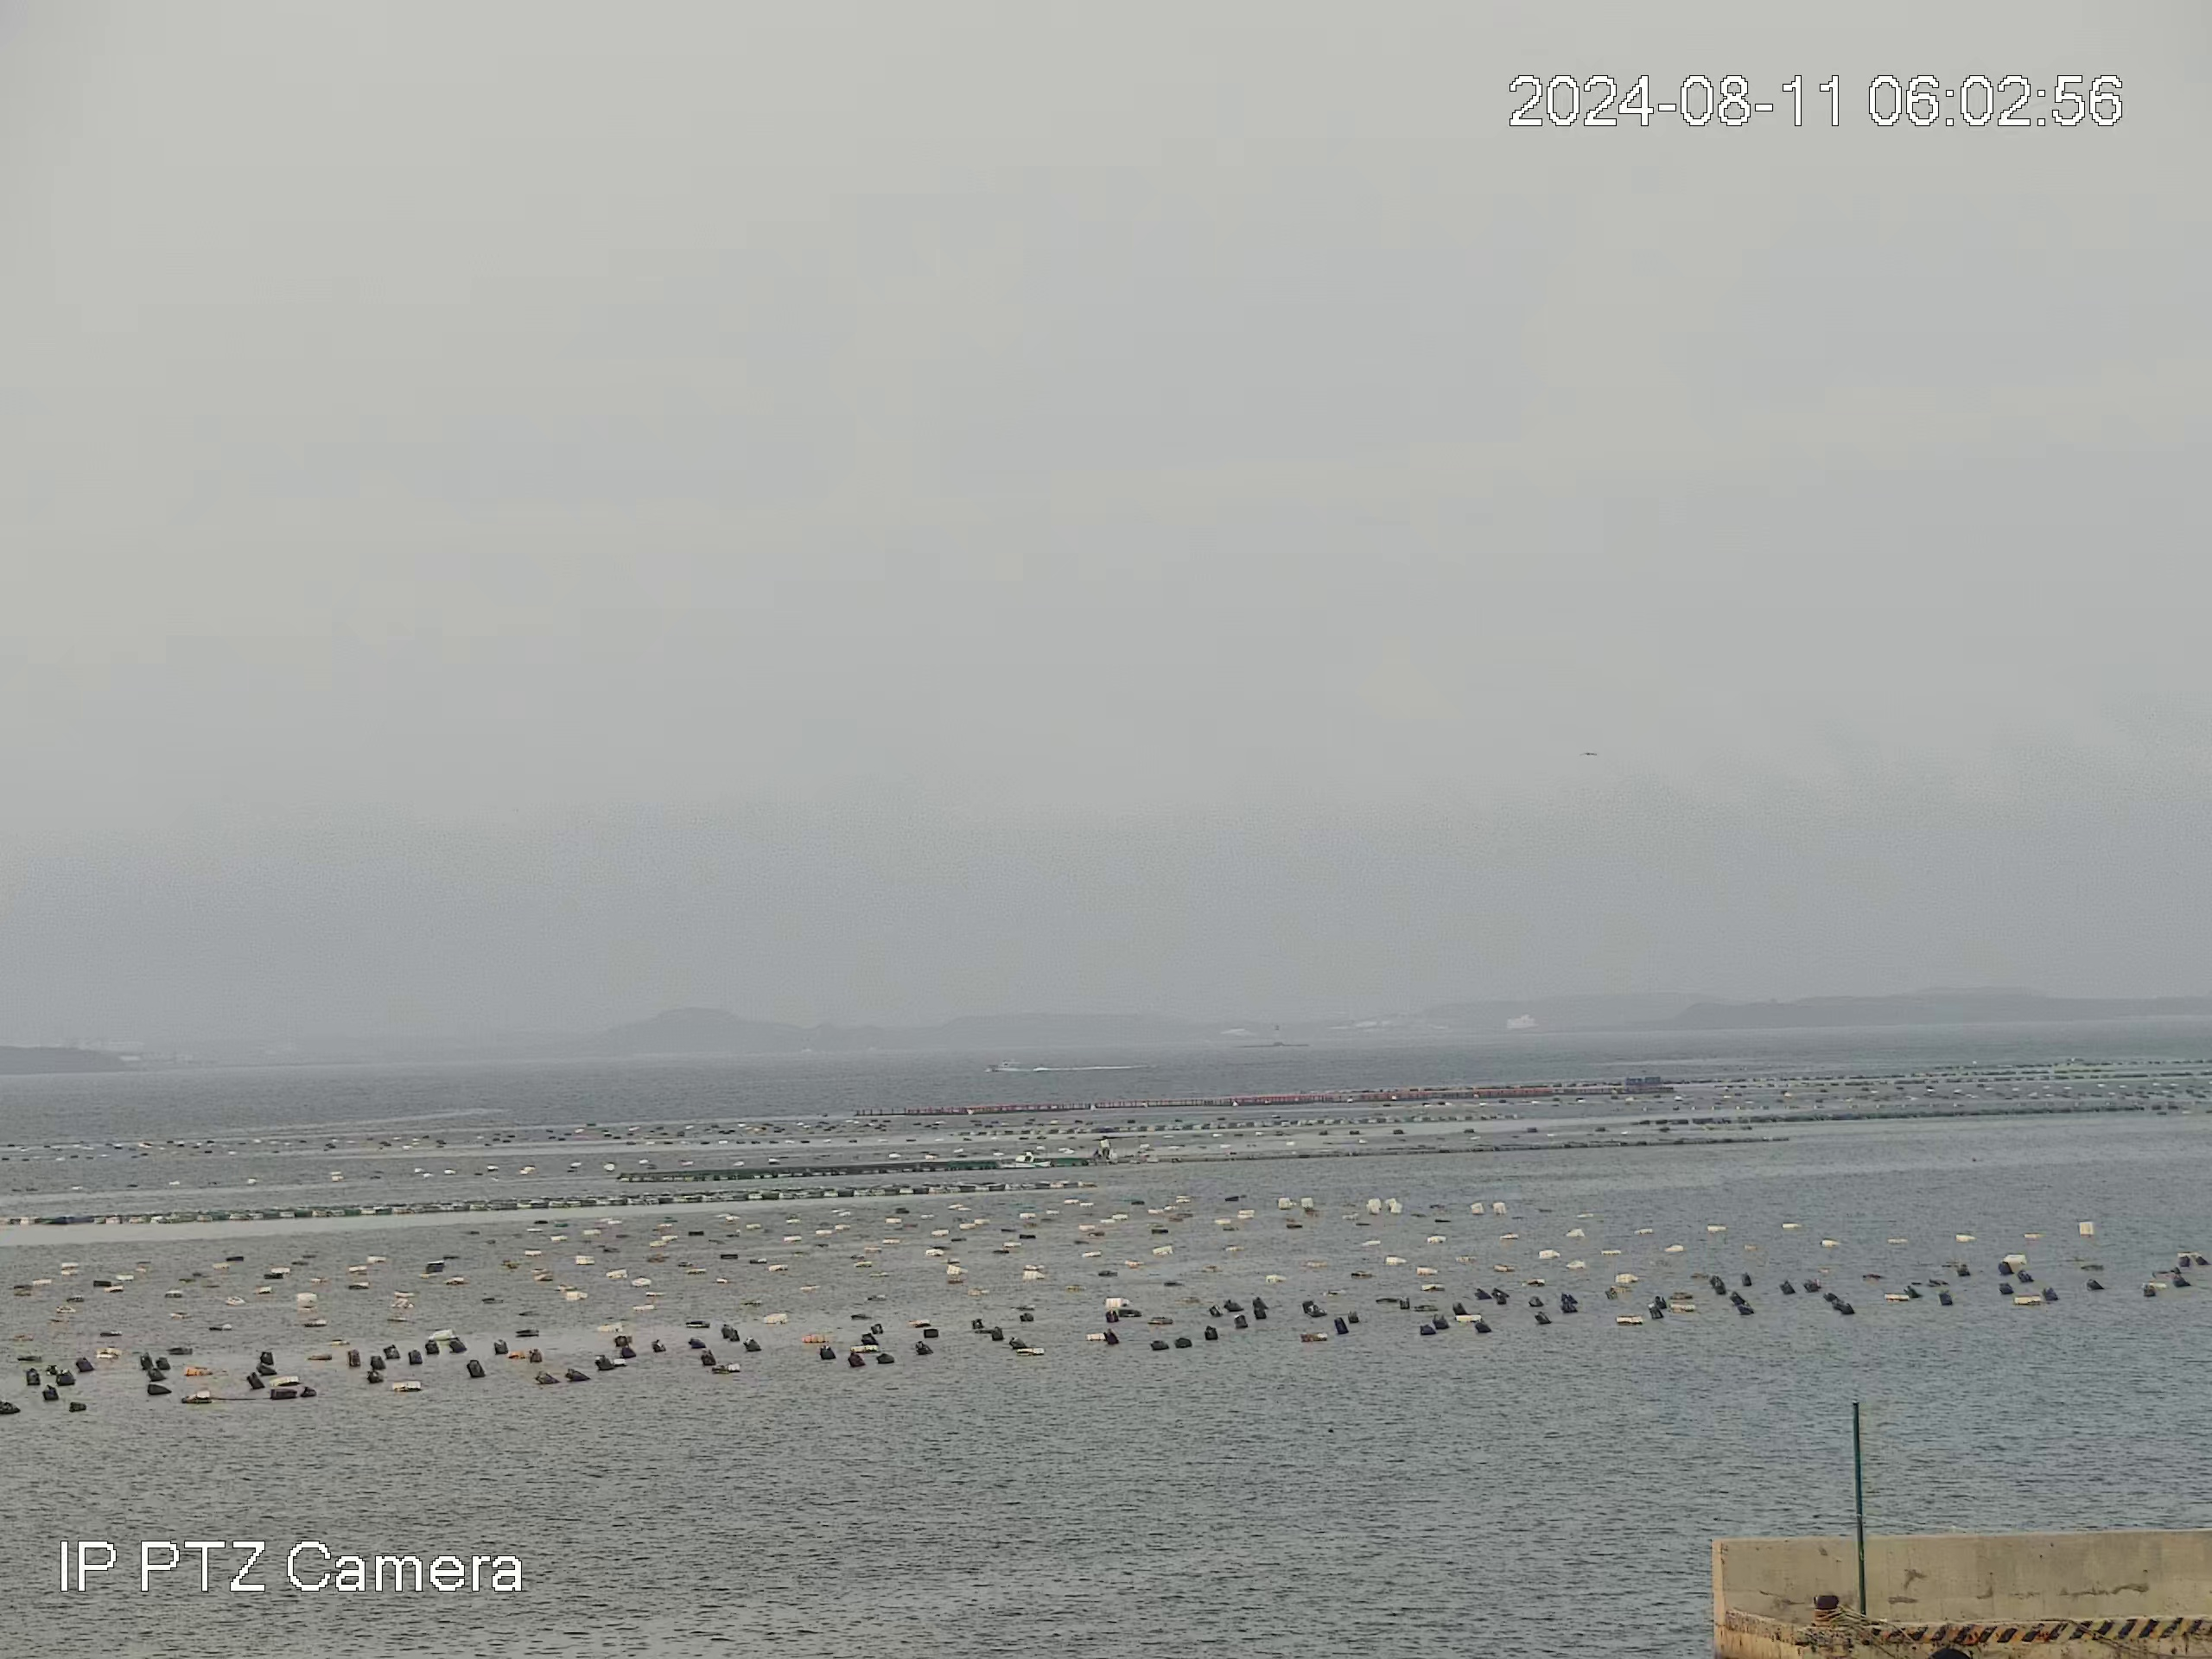boat: (988, 1147, 1056, 1173)
